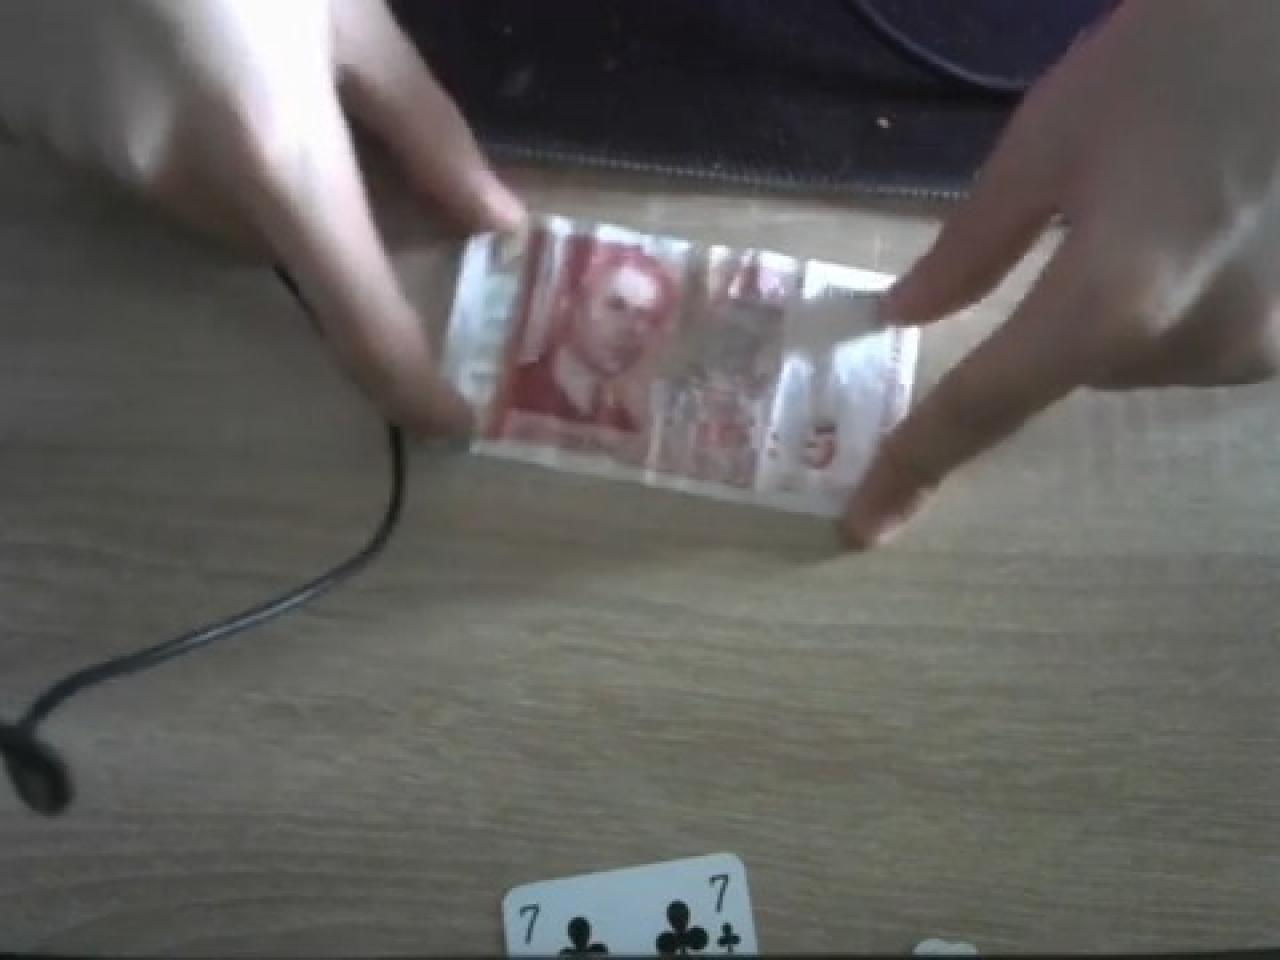5leva: (491, 219, 867, 509), (493, 224, 859, 512)
